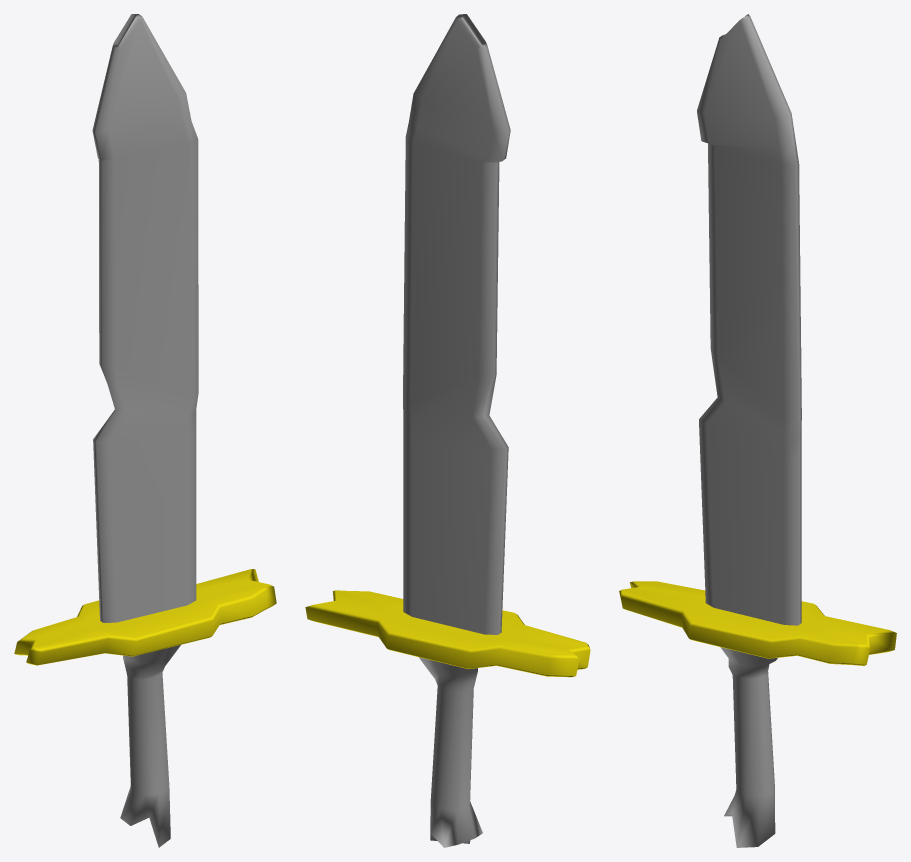
File: Sword_Small.fbx
3 renders of one model, left to right at view 1: azimuth 30°, elevation 25°; view 2: azimuth 150°, elevation 25°; view 3: azimuth 330°, elevation 25°, orthographic. The views are drawn at different scales.
Parts seen in each view (by area): view 1: Wooden_Sword; view 2: Wooden_Sword; view 3: Wooden_Sword.
Boxes of the visible parts, x1=… form: Wooden_Sword: x1=14, y1=14, x2=276, y2=847; Wooden_Sword: x1=305, y1=14, x2=590, y2=847; Wooden_Sword: x1=619, y1=14, x2=896, y2=847.
Bounding box in the file's own units: 30.4 × 93.85 × 10.79.
